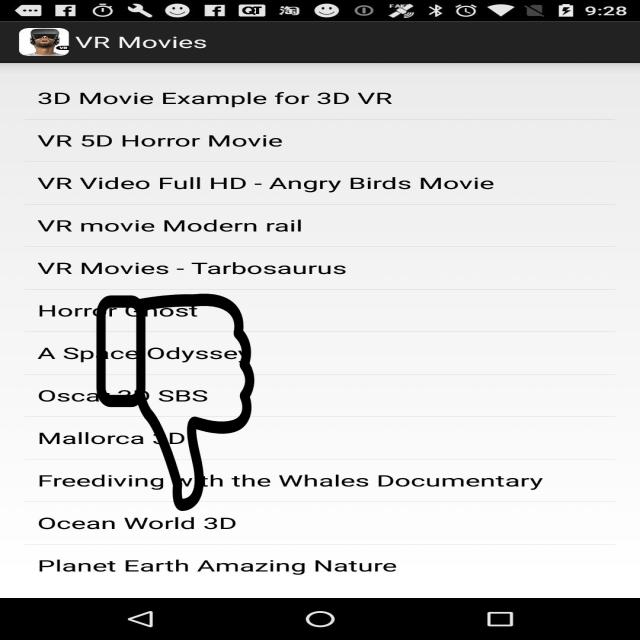obstruction: (94, 294, 257, 511)
